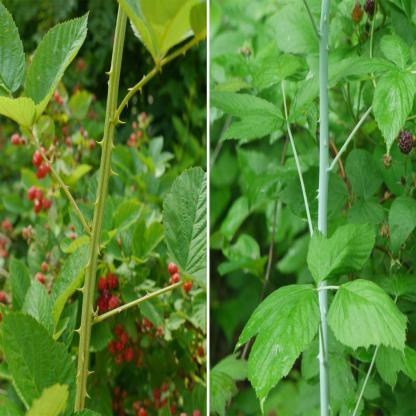Raspberry leaf: (244, 286, 318, 406), (22, 7, 89, 106), (327, 277, 410, 355), (165, 162, 209, 286), (305, 220, 377, 282), (370, 68, 415, 157), (209, 88, 284, 139), (289, 66, 327, 125), (342, 56, 391, 82)
